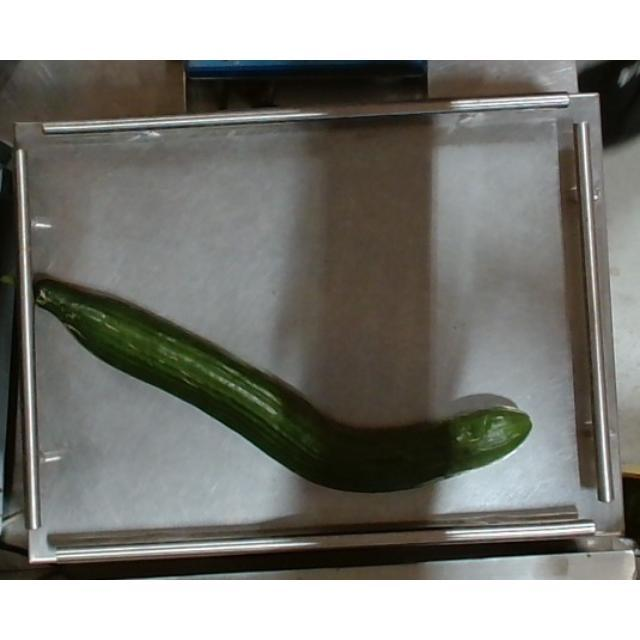cucumber: (35, 277, 531, 495)
